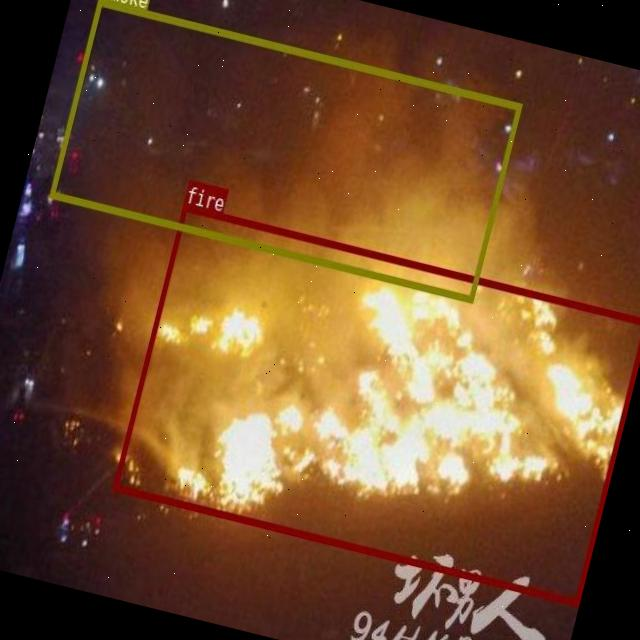fire: (111, 202, 640, 603)
smoke: (49, 0, 522, 301)
